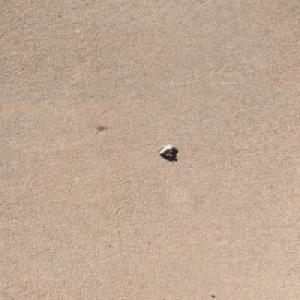MetalPart: (156, 144, 175, 158)
